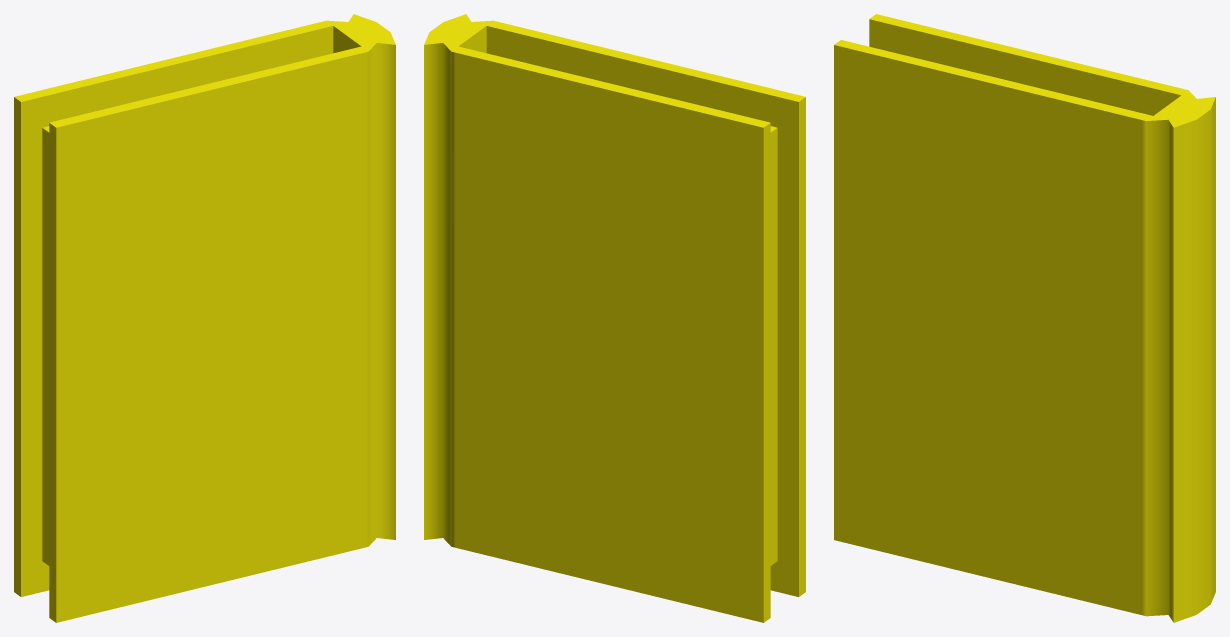
The model's file is Book_2.fbx.
3 views of the same model, side by side, from view 1: azimuth 30°, elevation 25°; view 2: azimuth 150°, elevation 25°; view 3: azimuth 330°, elevation 25° (orthographic).
Visible parts, largest first — view 1: Book2; view 2: Book2; view 3: Book2.
Boxes of the visible parts, bbox=[...] form: Book2: bbox=[14, 14, 395, 622]; Book2: bbox=[424, 14, 805, 622]; Book2: bbox=[834, 14, 1215, 622].
Bounding box in the file's own units: 1.6 × 2.17 × 0.3363.
